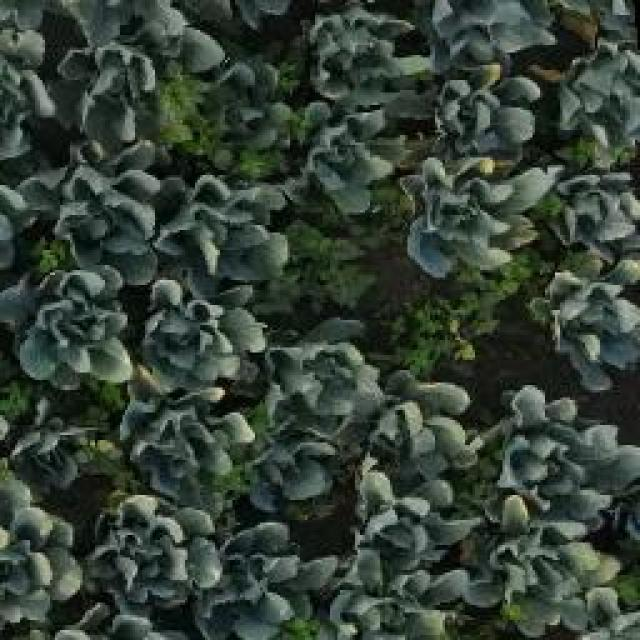cabbage: (85, 494, 225, 614), (3, 268, 137, 392), (480, 519, 608, 640), (164, 166, 297, 277), (0, 462, 86, 630), (28, 153, 157, 264), (126, 397, 255, 499), (397, 165, 520, 271), (200, 527, 315, 640), (140, 277, 250, 395), (502, 402, 616, 503), (263, 340, 382, 434), (34, 45, 152, 137), (369, 383, 481, 474), (533, 268, 640, 360), (325, 554, 438, 640), (317, 0, 431, 84), (428, 70, 543, 147), (291, 109, 384, 200), (542, 167, 640, 252), (356, 479, 462, 556), (259, 447, 342, 532), (561, 32, 640, 115)
